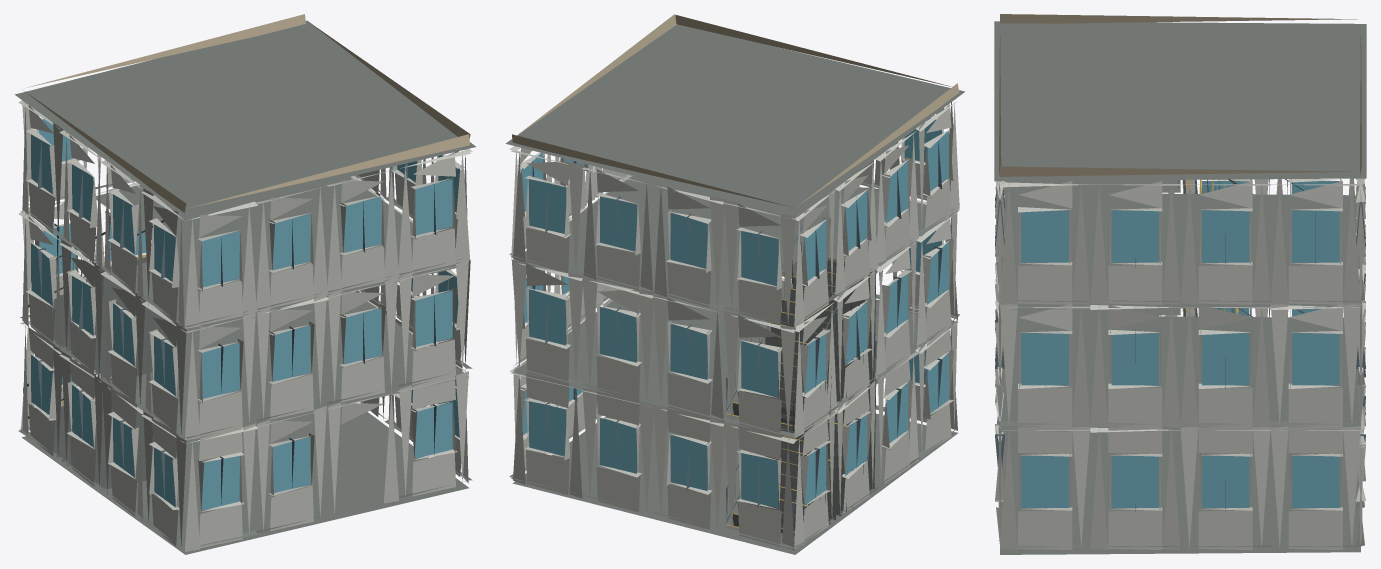
The model's file is architecture-office.lod2.glb.
The picture shows the model from 3 angles, left to right: view 1: azimuth 30°, elevation 25°; view 2: azimuth 150°, elevation 25°; view 3: azimuth 270°, elevation 25°; orthographic projection. The views are drawn at different scales.
Visible parts, largest first — view 1: architecture-office__body; view 2: architecture-office__body; view 3: architecture-office__body.
Boxes of the visible parts, x1,y1,x2,y2 form: architecture-office__body: (14, 14, 475, 554); architecture-office__body: (505, 14, 964, 554); architecture-office__body: (994, 14, 1366, 554).
Size of the model in its own units: 8.25 by 9.51 by 8.25.
